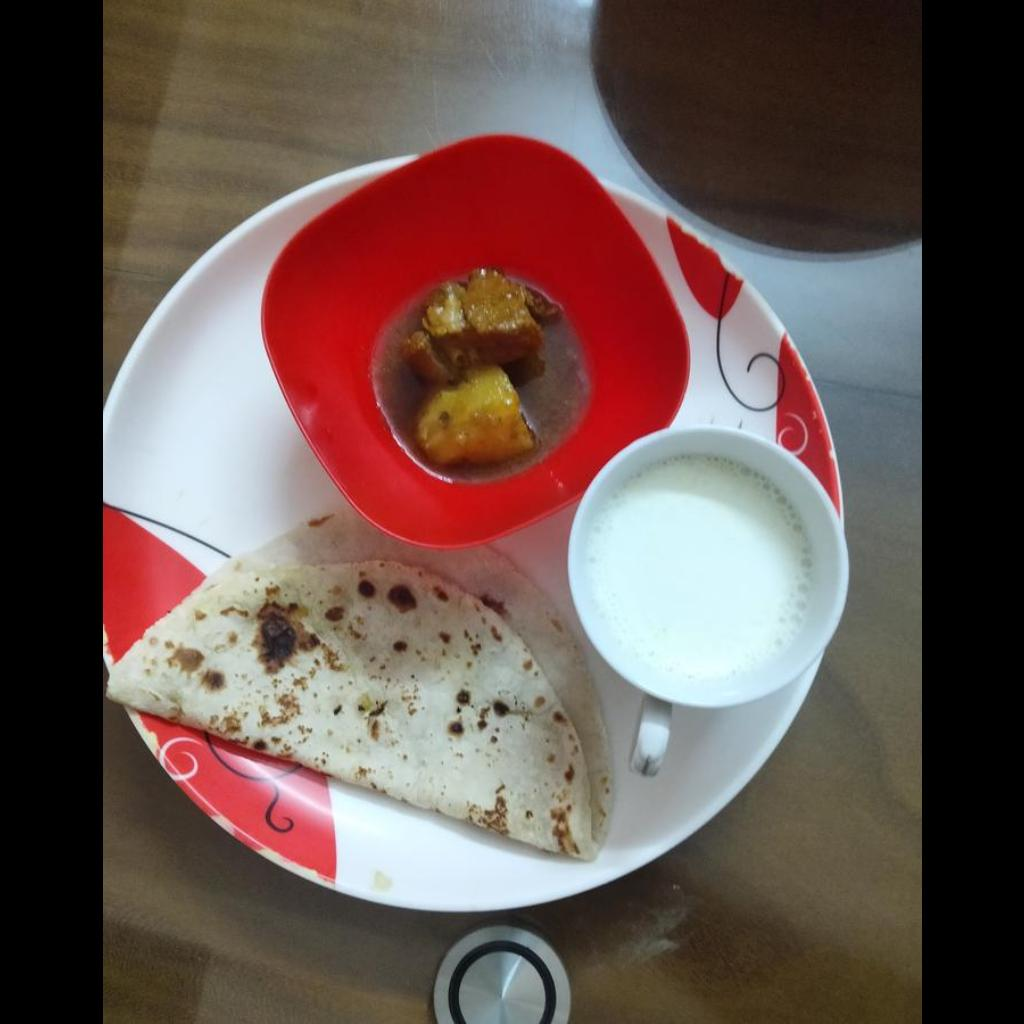beef: (408, 274, 561, 383)
milk: (590, 455, 808, 681)
potato: (414, 368, 535, 464)
ruti: (102, 512, 611, 860)
